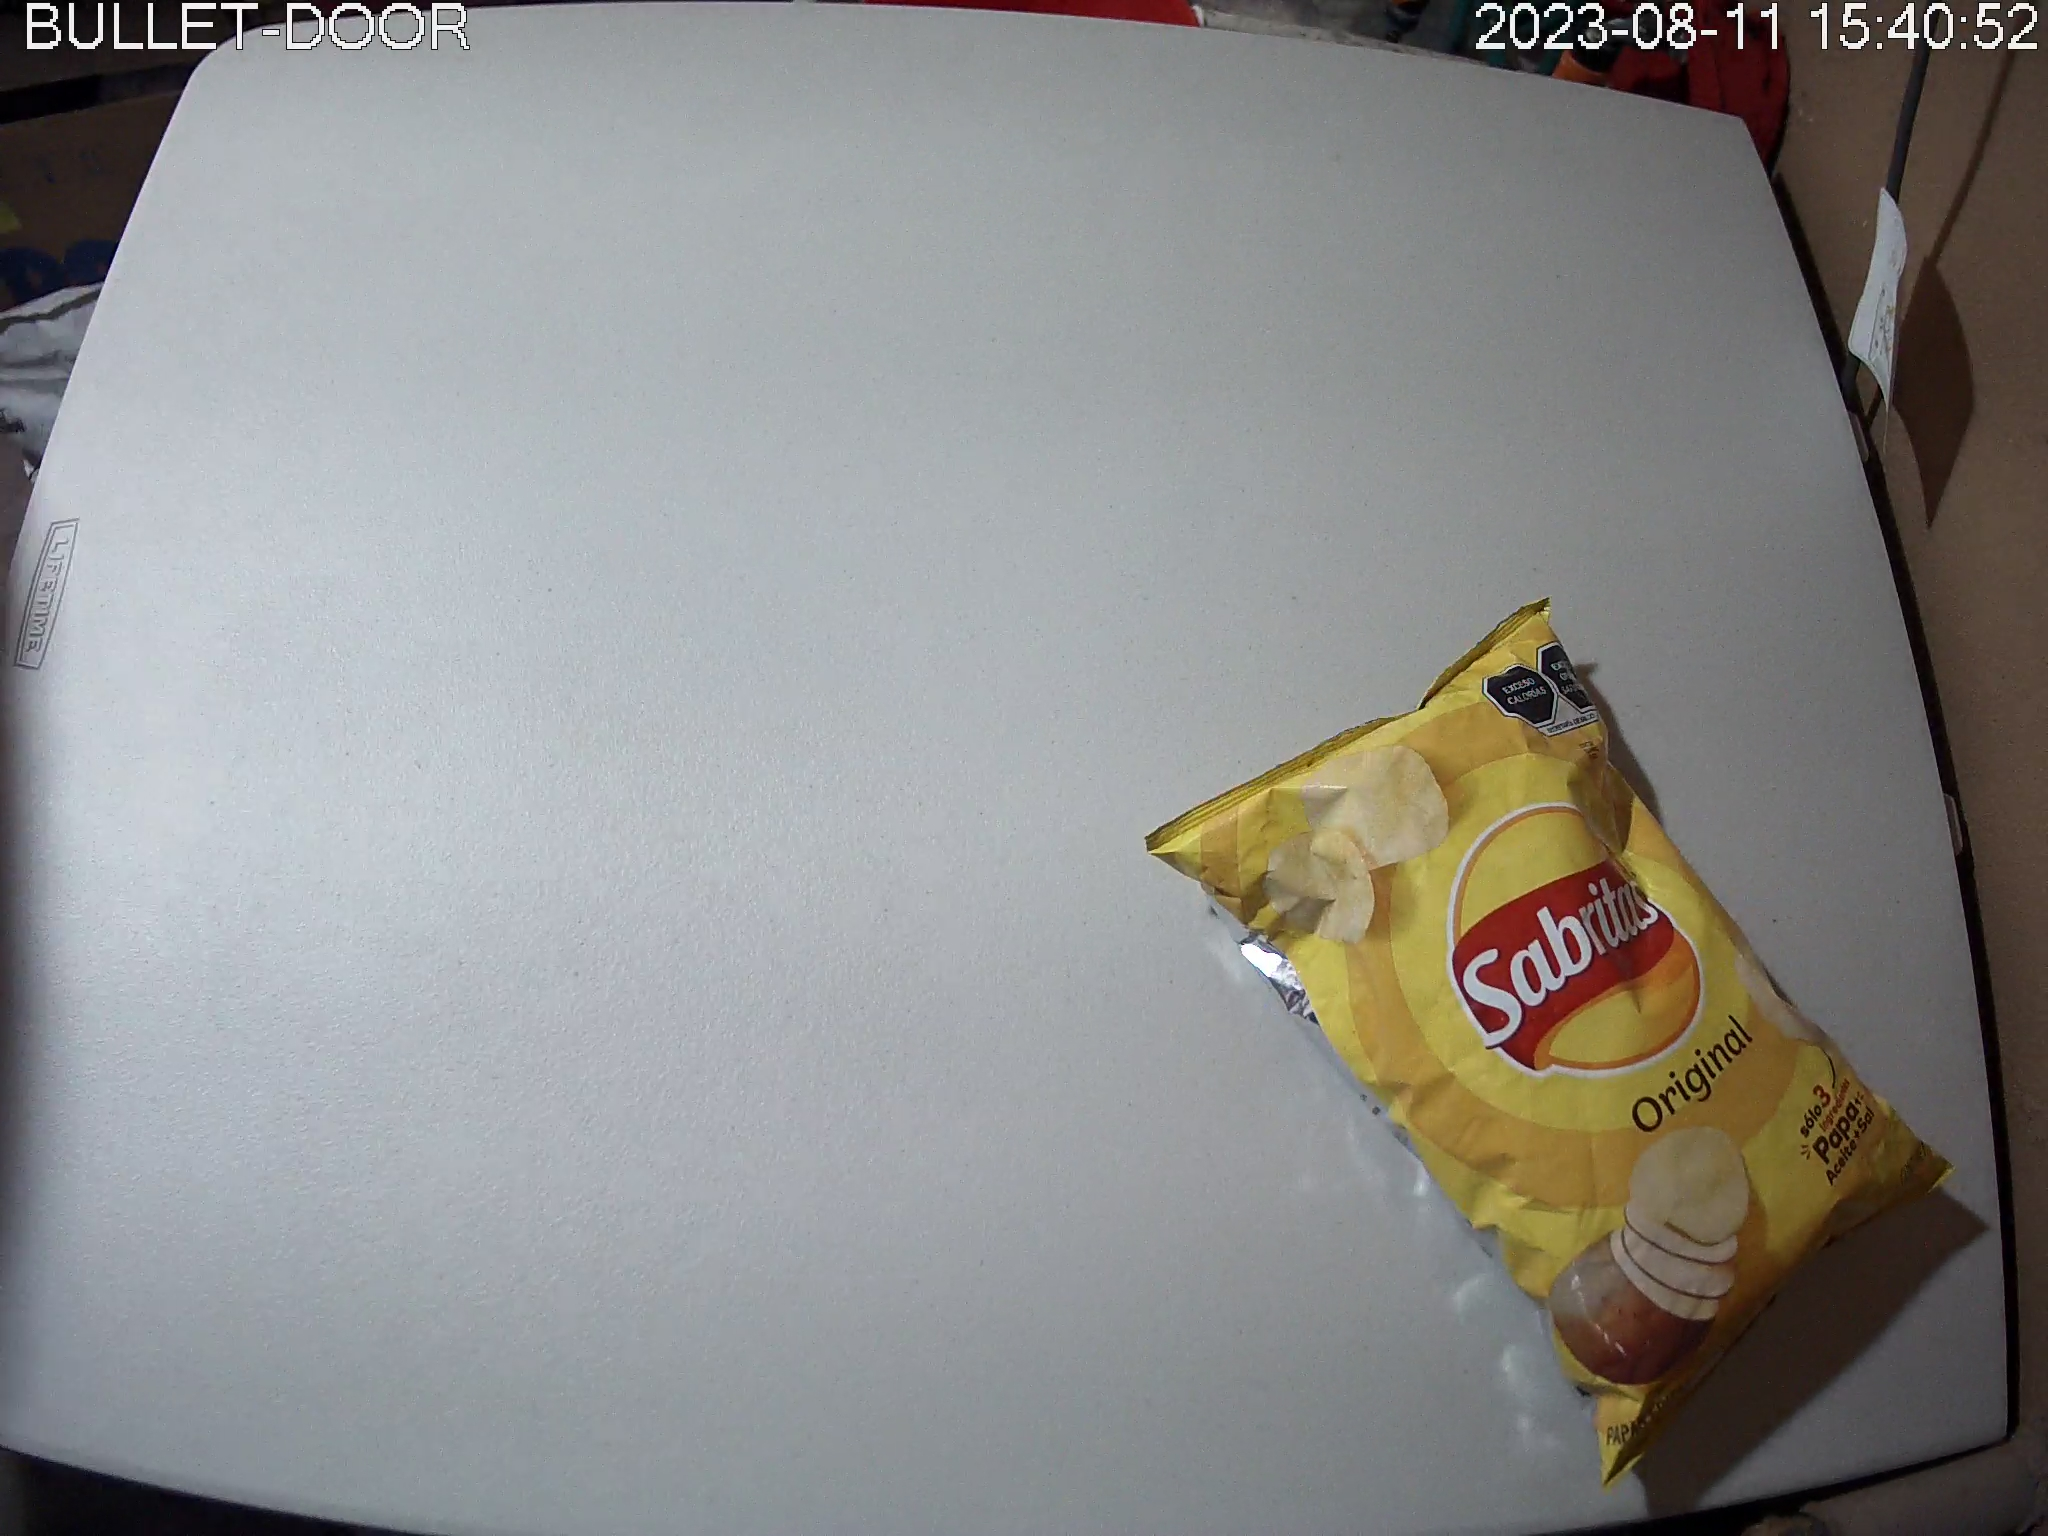Sabritas_160_F: (1145, 595, 1958, 1494)
